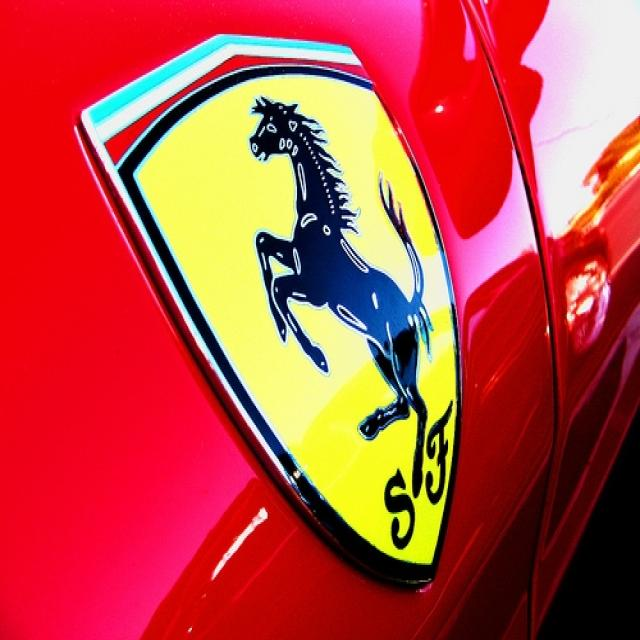ferrari: (85, 35, 465, 569)
